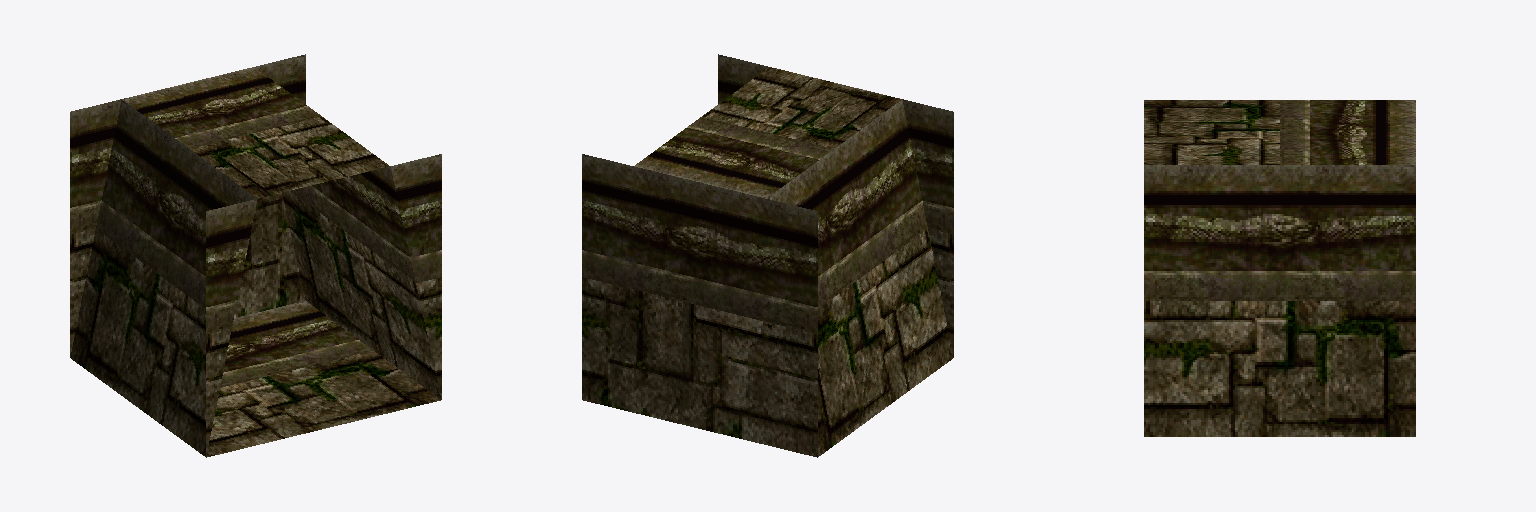
The picture shows the model from 3 angles: view 1: azimuth 30°, elevation 25°; view 2: azimuth 150°, elevation 25°; view 3: azimuth 270°, elevation 25°; orthographic projection.
Parts seen in each view (by area): view 1: Box001; view 2: Box001; view 3: Box001.
Boxes of the visible parts, <box> form: Box001: <box>70,54,441,457</box>; Box001: <box>582,54,953,457</box>; Box001: <box>1144,100,1415,436</box>.
Size of the model in its own units: 1024 by 1024 by 1024.
Materials: 1 (1 with a texture image).